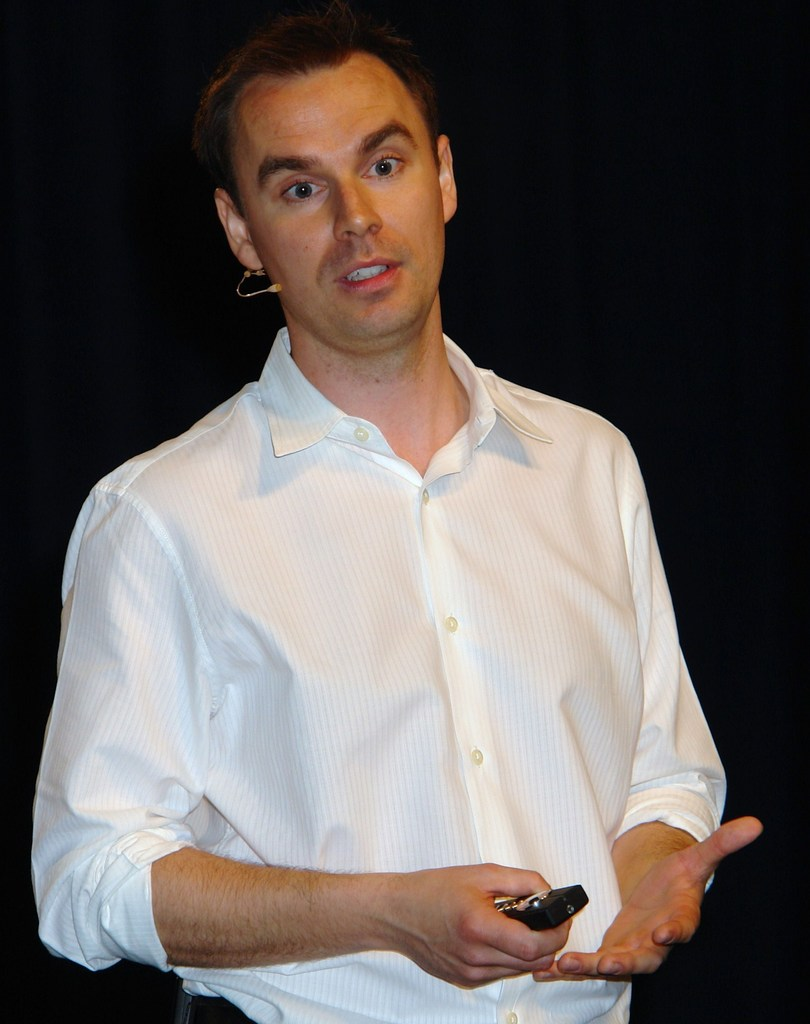Human_hand: (533, 813, 766, 986), (332, 860, 617, 986)
